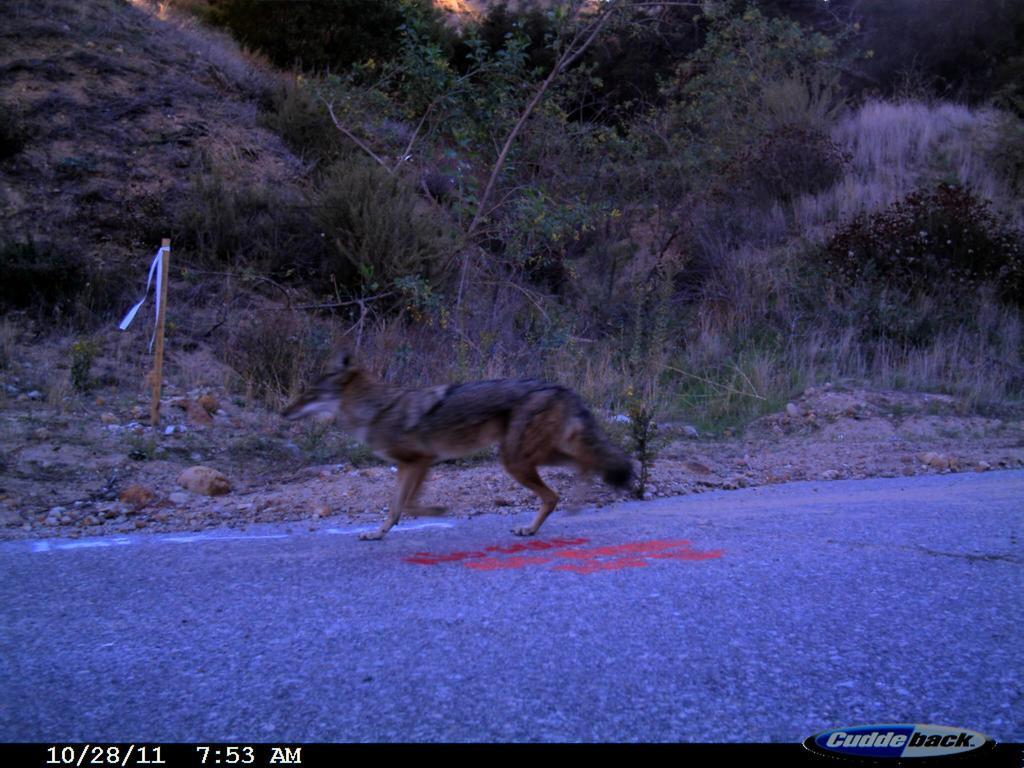coyote: (281, 337, 643, 557)
